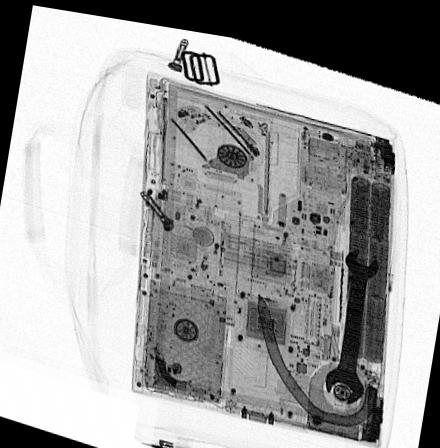Wrench: (325, 234, 379, 395)
